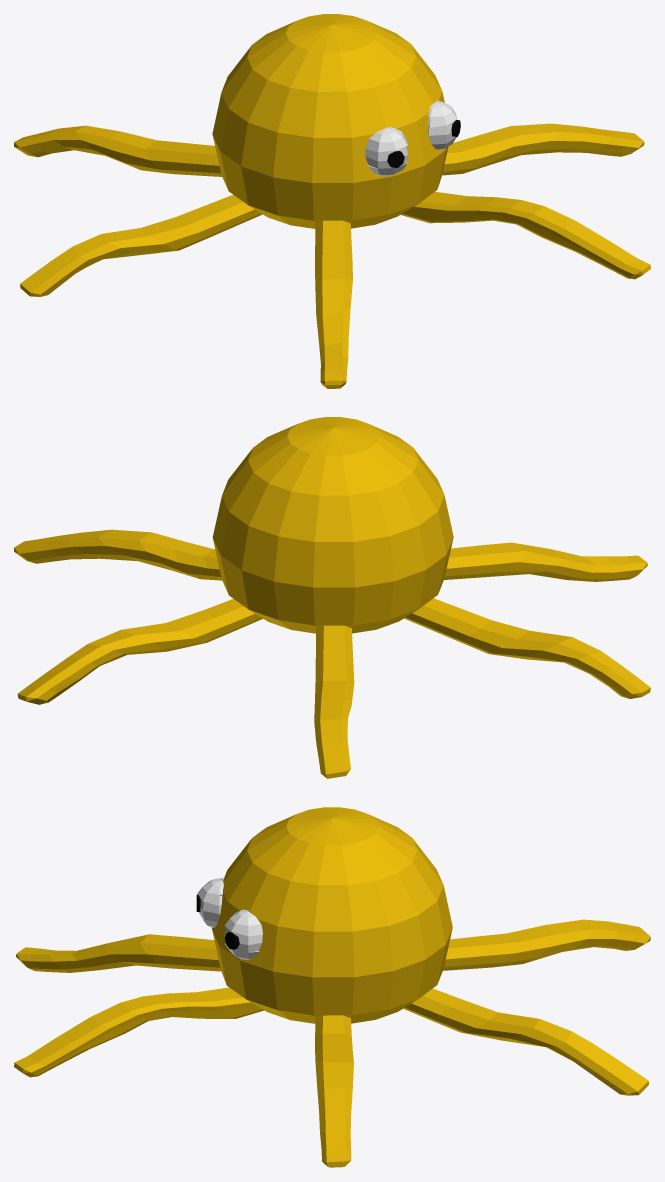
File: octo2.1.fbx
3 renders of one model, top to bottom at view 1: azimuth 30°, elevation 25°; view 2: azimuth 150°, elevation 25°; view 3: azimuth 270°, elevation 25°, orthographic.
Parts seen in each view (by area): view 1: Sphere, Sphere.001; view 2: Sphere; view 3: Sphere, Sphere.001.
Part boxes in pixels (x1,y1,x2,y2): Sphere: (14, 14, 650, 388); Sphere.001: (365, 100, 457, 176); Sphere: (14, 417, 650, 778); Sphere: (14, 807, 650, 1167); Sphere.001: (197, 878, 262, 959).
Bounding box in the file's own units: 598 × 203 × 528.
